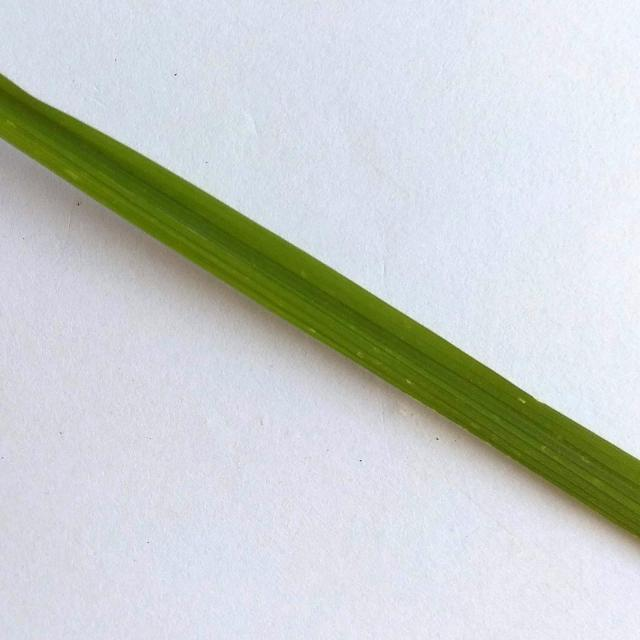healthy: (2, 69, 640, 640)
